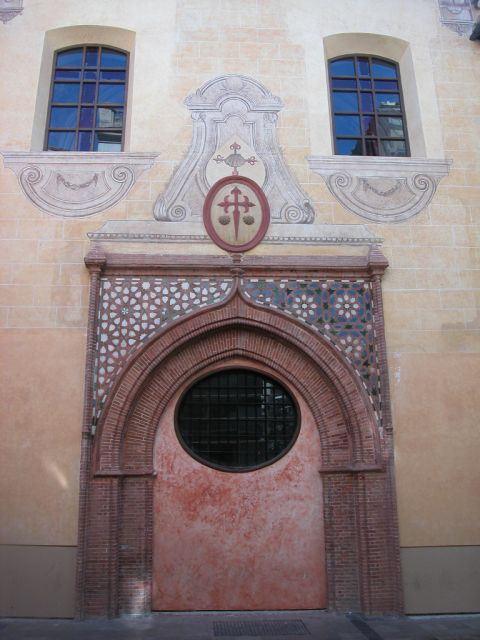arco-apuntado: (143, 339, 329, 471)
arco-conopial: (158, 280, 305, 331)
